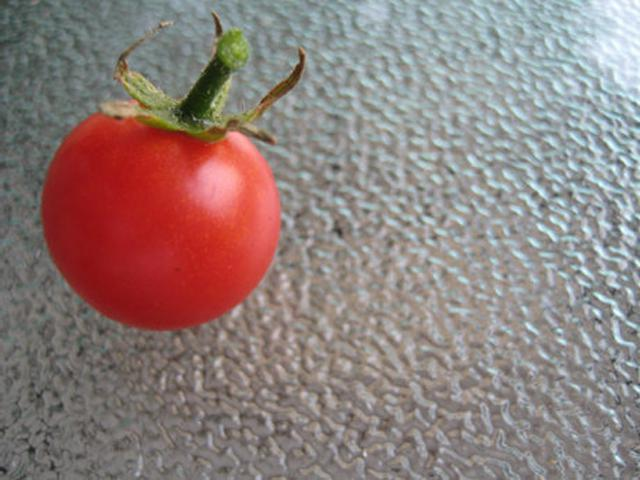tomato: (43, 111, 284, 332)
